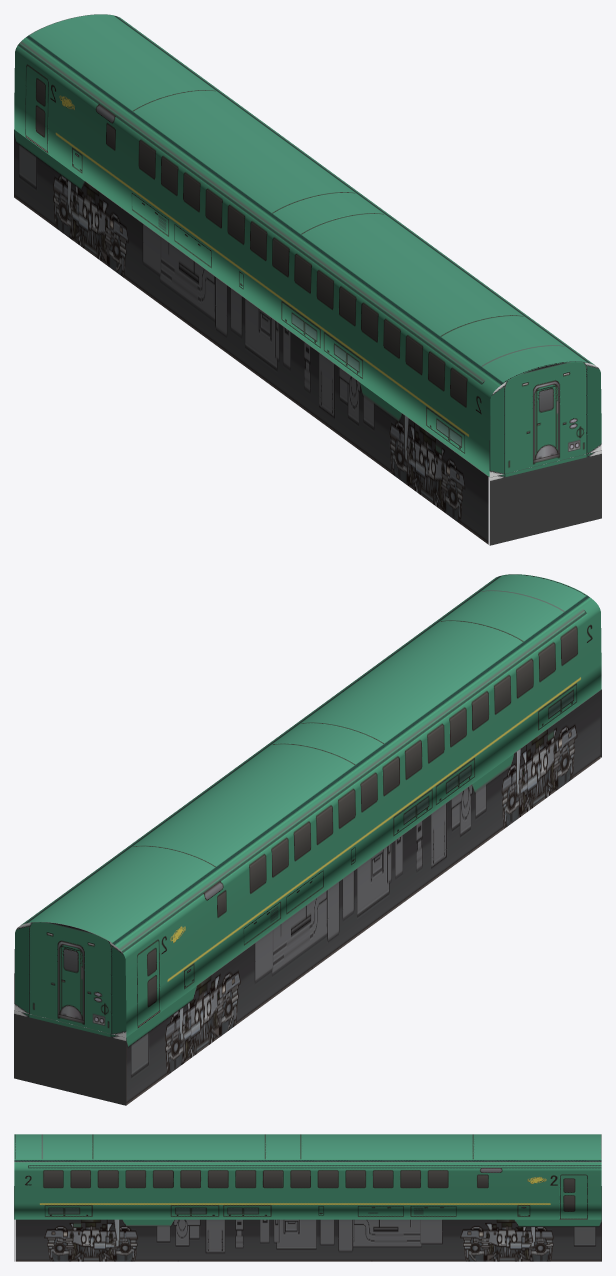
The model's file is car2.glb.
3 renders of one model, top to bottom at view 1: azimuth 30°, elevation 25°; view 2: azimuth 150°, elevation 25°; view 3: azimuth 270°, elevation 25°, orthographic. The views are drawn at different scales.
Visible parts, largest first — view 1: jr-kyusyu-kiha72-car2; view 2: jr-kyusyu-kiha72-car2; view 3: jr-kyusyu-kiha72-car2.
Boxes of the visible parts, box(x1,y1,x2,y2) form: jr-kyusyu-kiha72-car2: box(14, 14, 601, 545); jr-kyusyu-kiha72-car2: box(14, 574, 601, 1105); jr-kyusyu-kiha72-car2: box(14, 1134, 601, 1261).
Size of the model in its own units: 2.9 by 4.09 by 21.33.
Materials: 9 (8 with a texture image).
